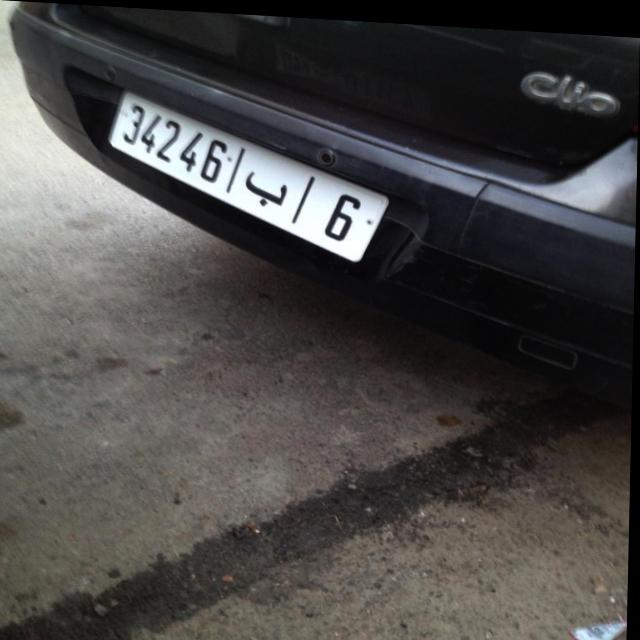License-Plate: (109, 91, 390, 258)
